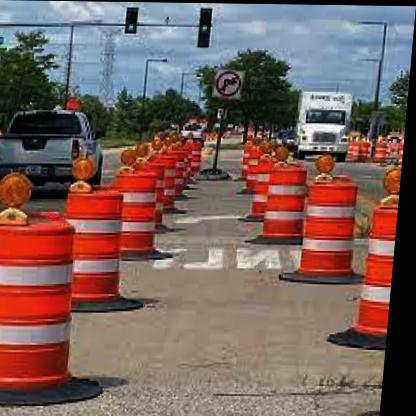obstacle: (0, 213, 83, 395), (76, 186, 129, 309), (303, 176, 363, 276), (264, 162, 314, 239)
